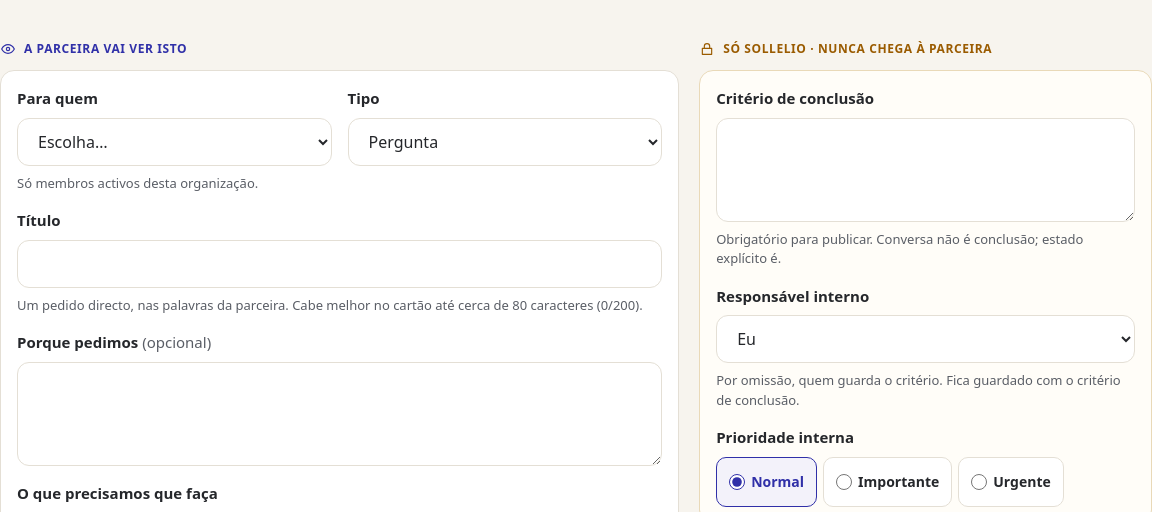
Test: an ended session › offers the sign-in flow back to this page and says unsaved work would be lost
The image size is (1152, 512).
Select "Nádia" in the dropdown labelled "Para quem": (174, 142) [17,118,332,166]
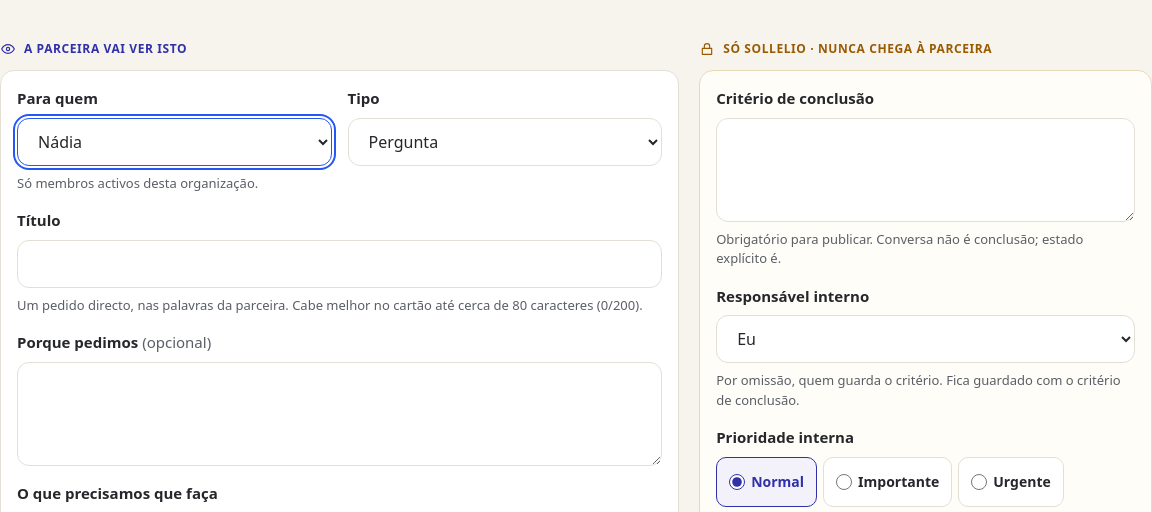
Select "Tarefa" in the dropdown labelled "Tipo": (505, 142) [348,118,662,166]
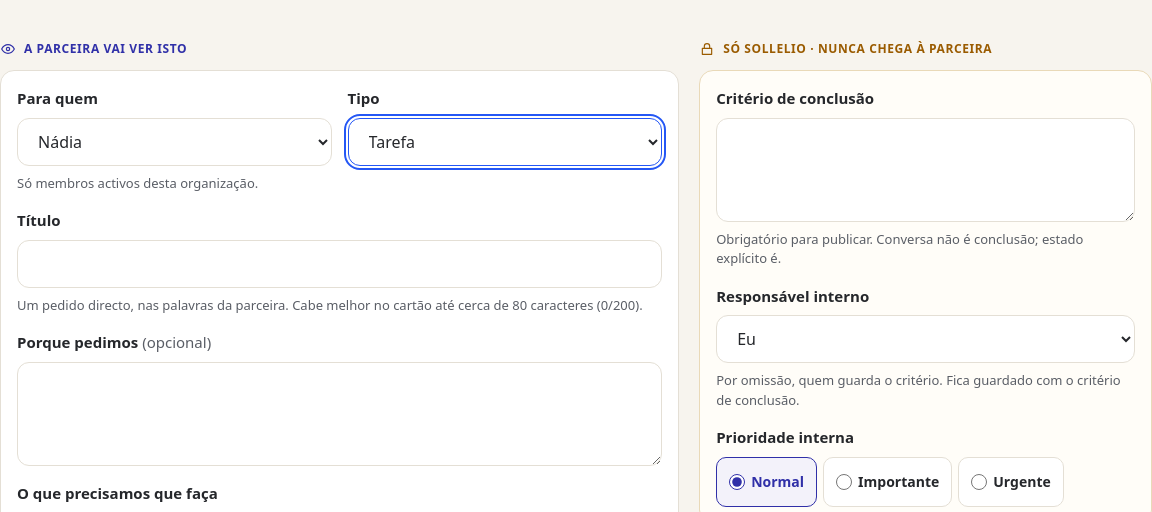
In the field labelled "Título": (340, 264) [17,240,662,288], type "Título"
(page scrolled)
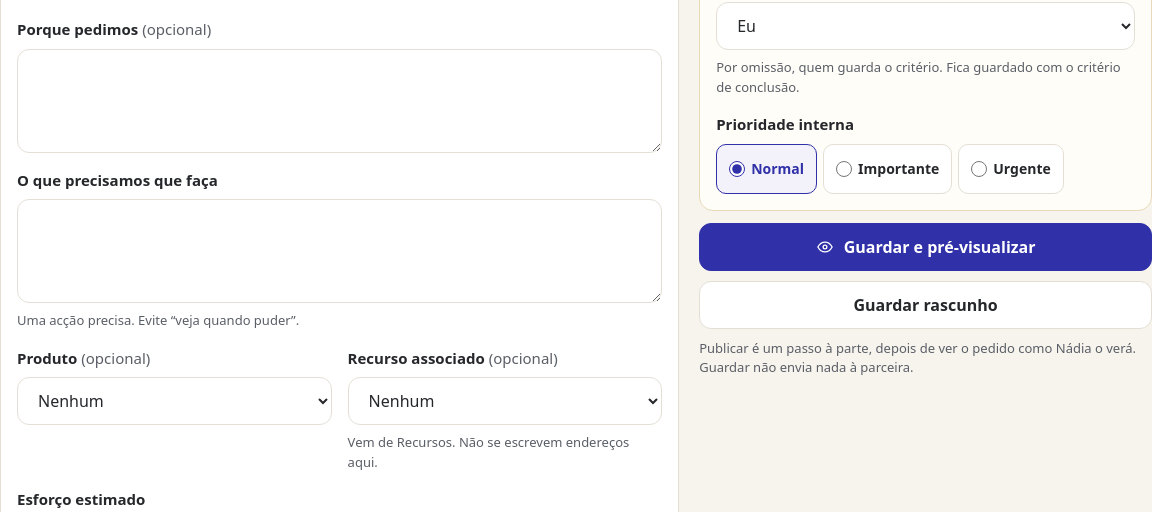
In the text box labelled "O que precisamos que faça": (340, 251) [17,199,662,303], type "Faça isto."
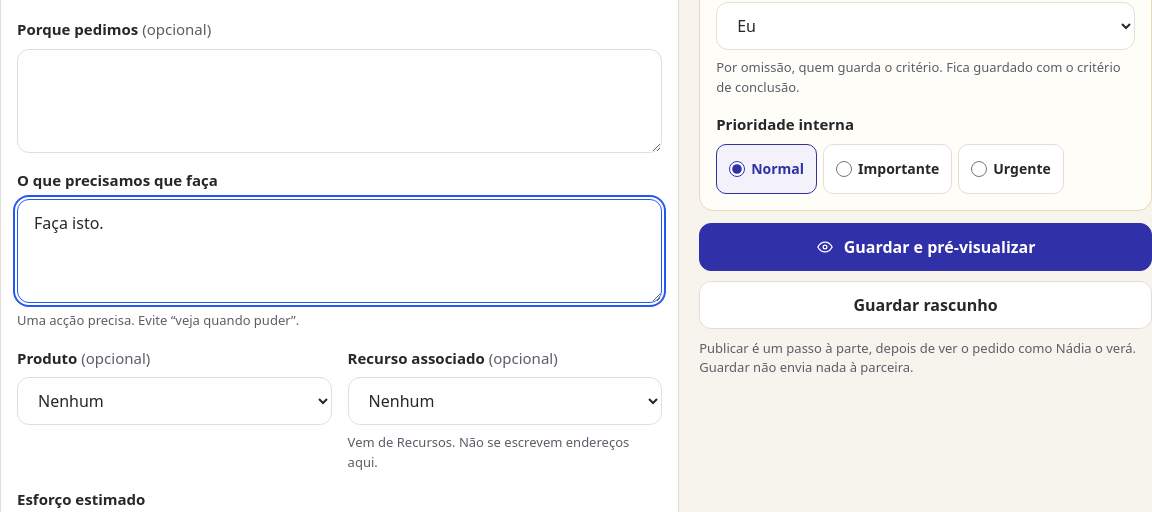
Click the button "Guardar rascunho": (926, 304) [699,280,1151,328]
(page scrolled)
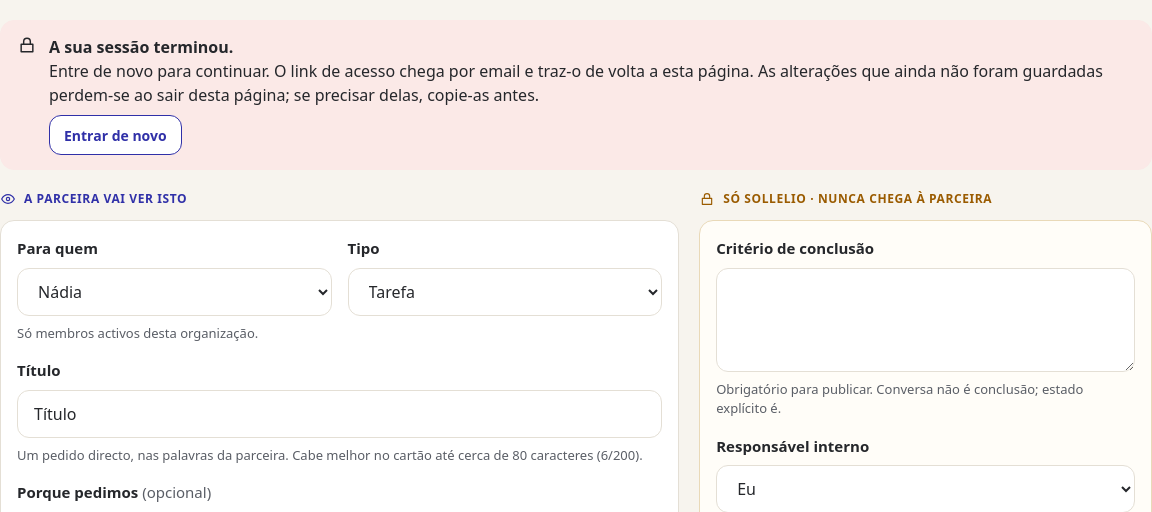
Result: the text "perdem-se ao sair desta página" is shown at [49,60,1103,106]
